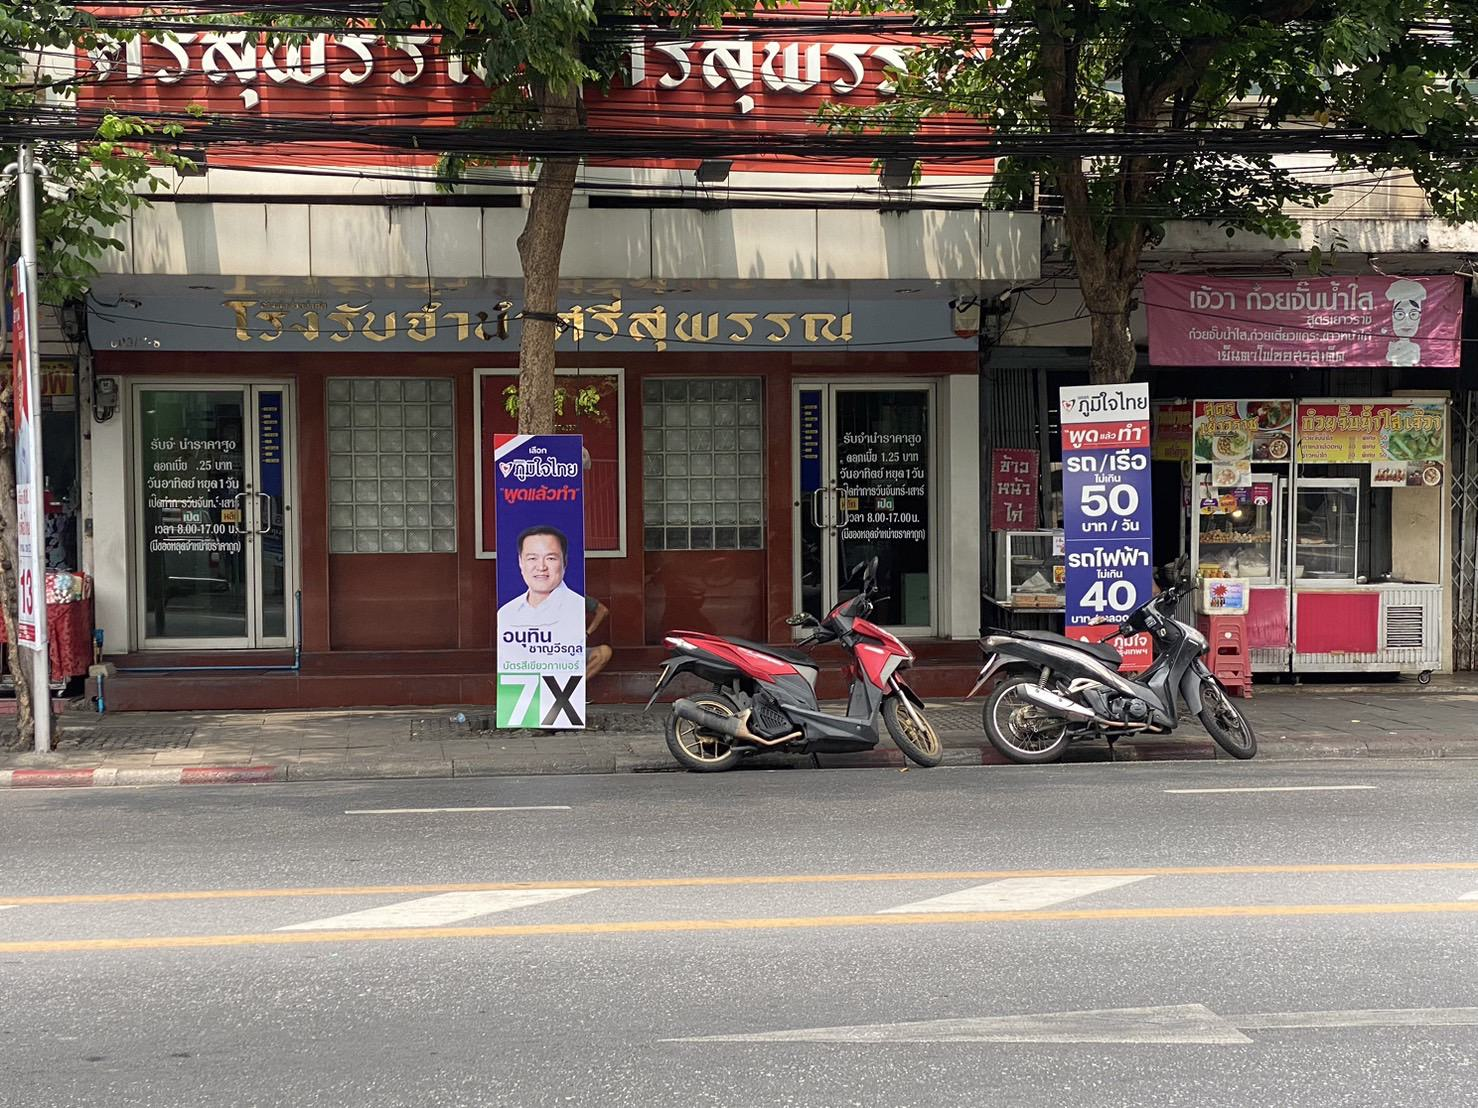Banner: (1043, 357, 1184, 684), (490, 411, 590, 743)
